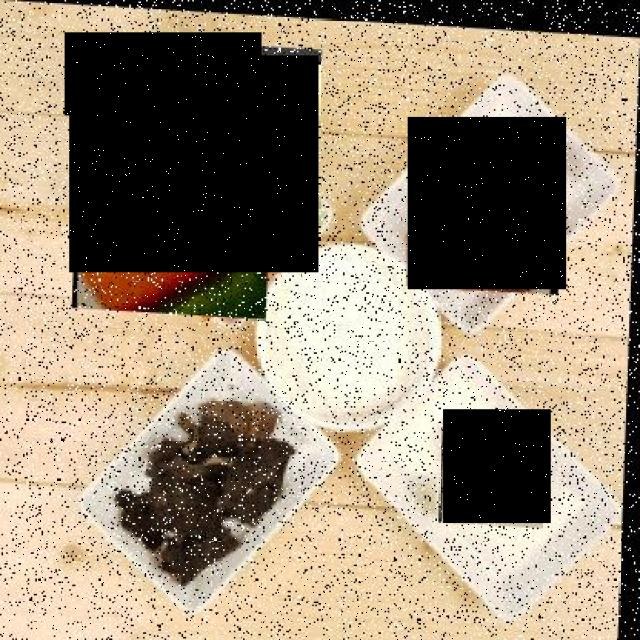Beef: (408, 116, 566, 290)
Carrot: (65, 33, 262, 117)
Cucumber: (70, 55, 319, 272)
Garlic: (443, 409, 551, 523)
